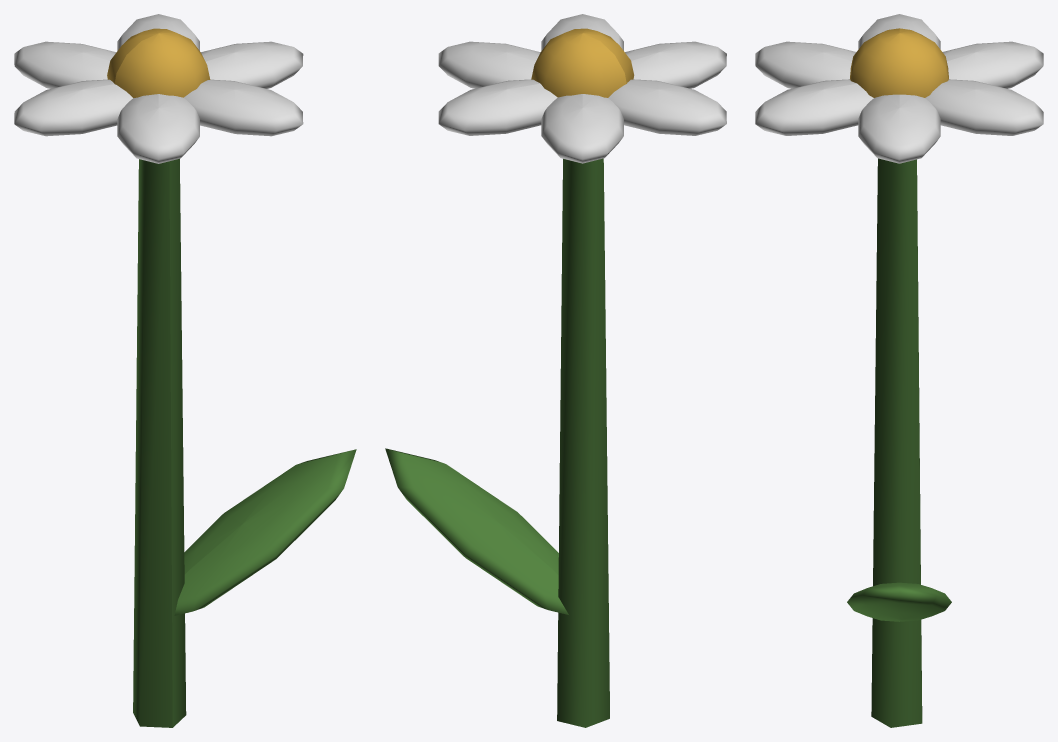
File: flower.glb
3 renders of one model, left to right at view 1: azimuth 30°, elevation 25°; view 2: azimuth 150°, elevation 25°; view 3: azimuth 270°, elevation 25°, orthographic.
Visible parts, largest first — view 1: Flower; view 2: Flower; view 3: Flower.
Part boxes in pixels (x1=…): Flower: x1=14, y1=14, x2=356, y2=727; Flower: x1=385, y1=14, x2=726, y2=727; Flower: x1=755, y1=14, x2=1043, y2=727.
Size of the model in its own units: 0.2252 by 0.43 by 0.1645.
